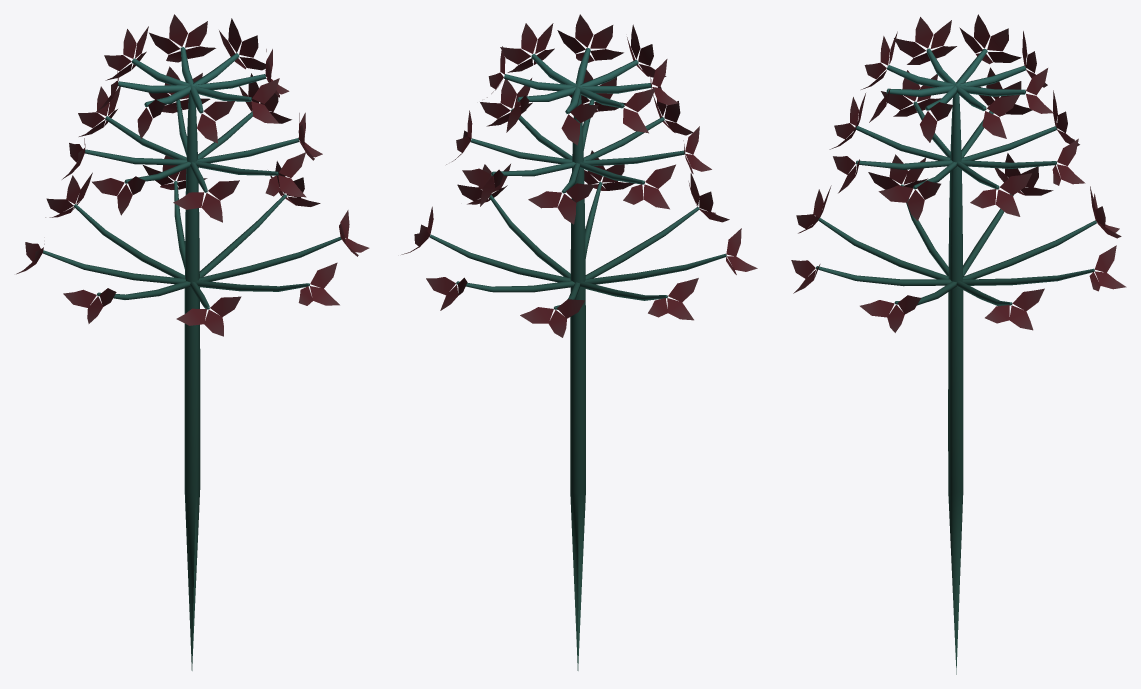
The model's file is plants-flowers-red-star-flower_v3.glb.
3 renders of one model, left to right at view 1: azimuth 30°, elevation 25°; view 2: azimuth 150°, elevation 25°; view 3: azimuth 270°, elevation 25°, orthographic.
Visible parts, largest first — view 1: Red Star Flower_v3; view 2: Red Star Flower_v3; view 3: Red Star Flower_v3.
Boxes of the visible parts, <box> form: Red Star Flower_v3: <box>16,14,369,670</box>; Red Star Flower_v3: <box>401,14,757,670</box>; Red Star Flower_v3: <box>791,14,1126,674</box>.
Size of the model in its own units: 0.2938 by 0.6 by 0.2938.
